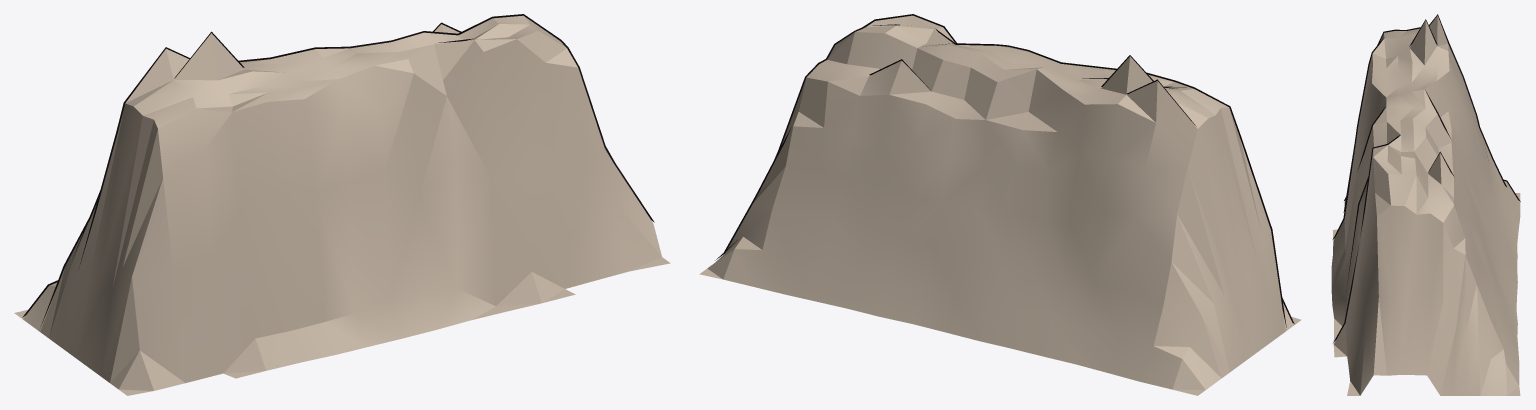
Rendered from SM_Cliff_01.fbx.
3 renders of one model, left to right at view 1: azimuth 30°, elevation 25°; view 2: azimuth 150°, elevation 25°; view 3: azimuth 270°, elevation 25°, orthographic. The views are drawn at different scales.
Parts seen in each view (by area): view 1: SM_Cliff_01; view 2: SM_Cliff_01; view 3: SM_Cliff_01.
Boxes of the visible parts, x1,y1,x2,y2 form: SM_Cliff_01: [14, 14, 670, 395]; SM_Cliff_01: [699, 14, 1301, 395]; SM_Cliff_01: [1331, 14, 1520, 395].
Bounding box in the file's own units: 18.09 × 9.29 × 7.16.
